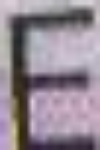E: (0, 0, 99, 149)
